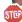Stop sign: (0, 0, 21, 21)
